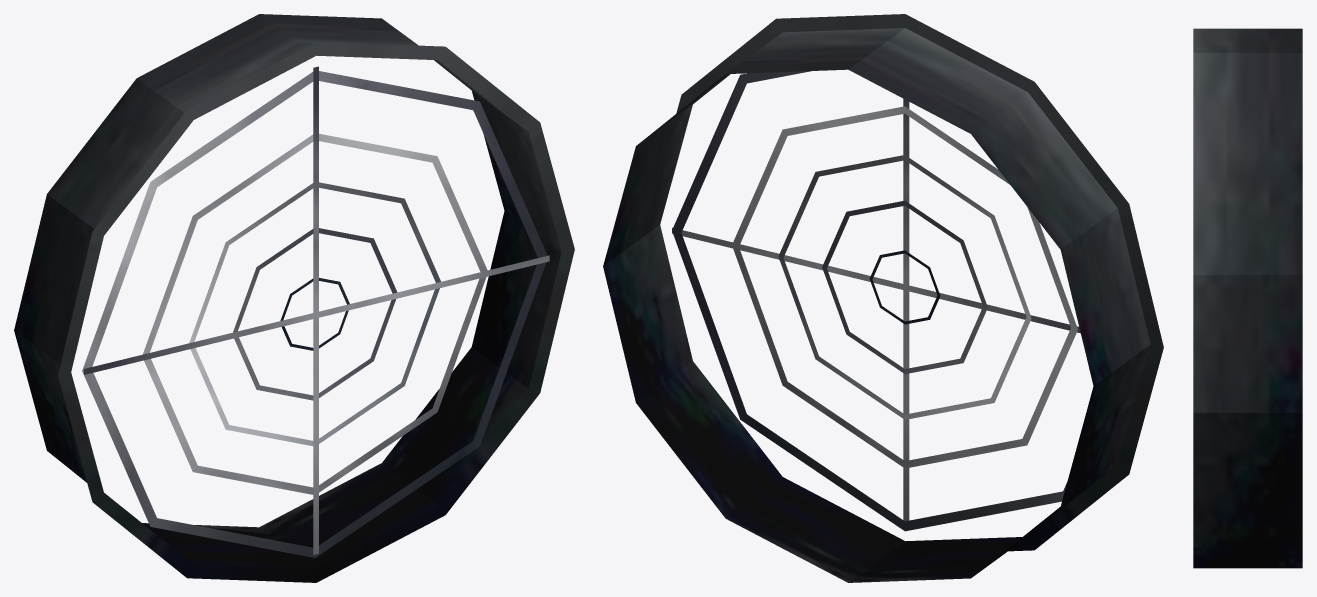
Rendered from 风扇壳.obj.
The picture shows the model from 3 angles, left to right: view 1: azimuth 30°, elevation 25°; view 2: azimuth 150°, elevation 25°; view 3: azimuth 270°, elevation 25°; orthographic projection. The views are drawn at different scales.
Visible parts, largest first — view 1: Cylinder229, Circle002; view 2: Cylinder229, Circle002; view 3: Cylinder229.
Boxes of the visible parts, x1=… form: Cylinder229: x1=14, y1=14, x2=574, y2=582; Circle002: x1=82, y1=66, x2=549, y2=557; Cylinder229: x1=603, y1=14, x2=1163, y2=582; Circle002: x1=672, y1=71, x2=1080, y2=531; Cylinder229: x1=1193, y1=28, x2=1302, y2=568.
Bounding box in the file's own units: 151 × 151 × 29.01.
